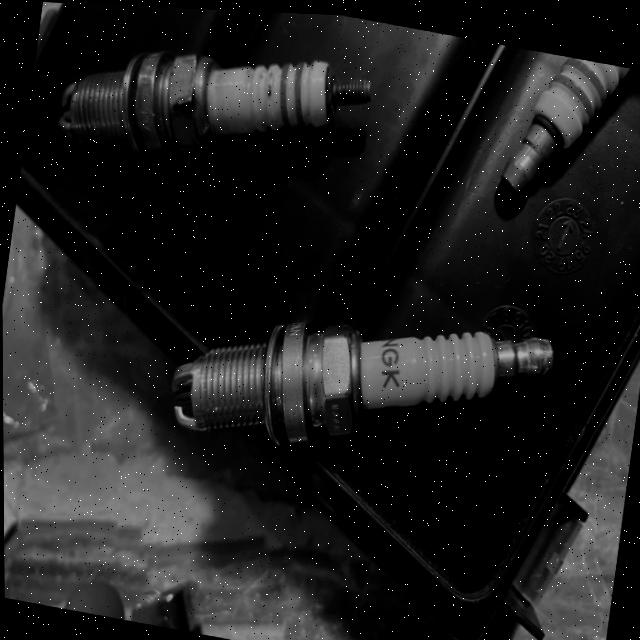spark-plug: (159, 299, 564, 461), (52, 34, 386, 164)
